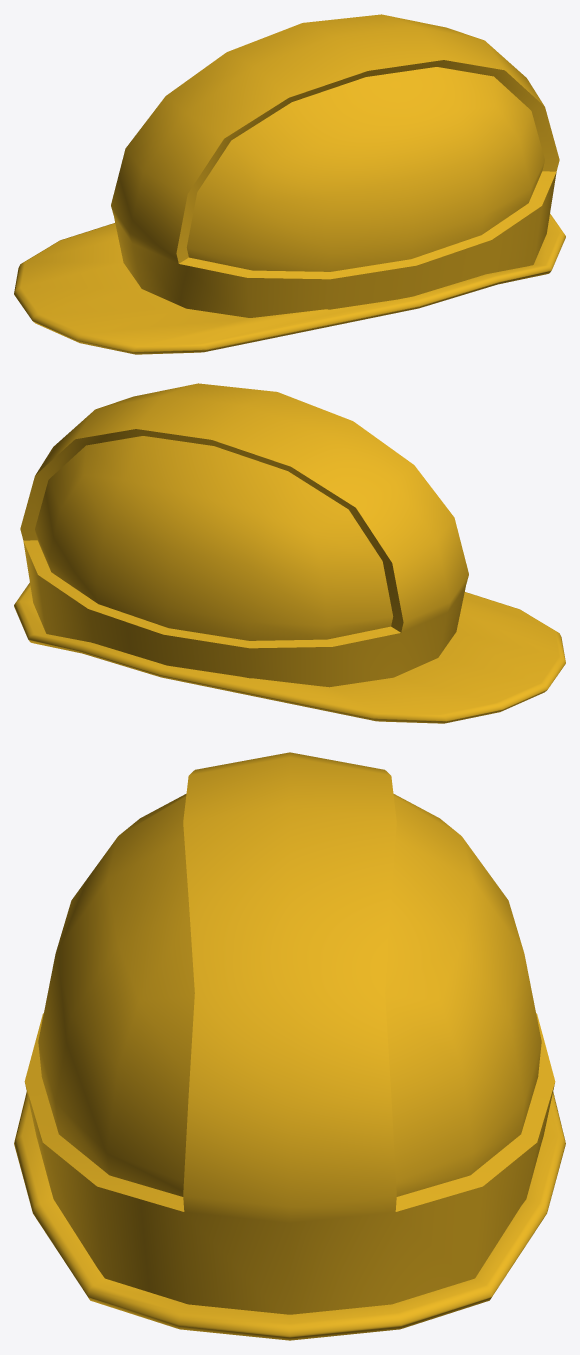
The model's file is Casco de obrero.fbx.
3 views of the same model, one above another, from view 1: azimuth 30°, elevation 25°; view 2: azimuth 150°, elevation 25°; view 3: azimuth 270°, elevation 25° (orthographic). The views are drawn at different scales.
Parts seen in each view (by area): view 1: Casco de obrero; view 2: Casco de obrero; view 3: Casco de obrero.
Part boxes in pixels (left/top/right/bottom): Casco de obrero: left=14, top=14, right=565, bottom=354; Casco de obrero: left=14, top=383, right=565, bottom=723; Casco de obrero: left=14, top=752, right=565, bottom=1340.
Size of the model in its own units: 35 by 15 by 20.
